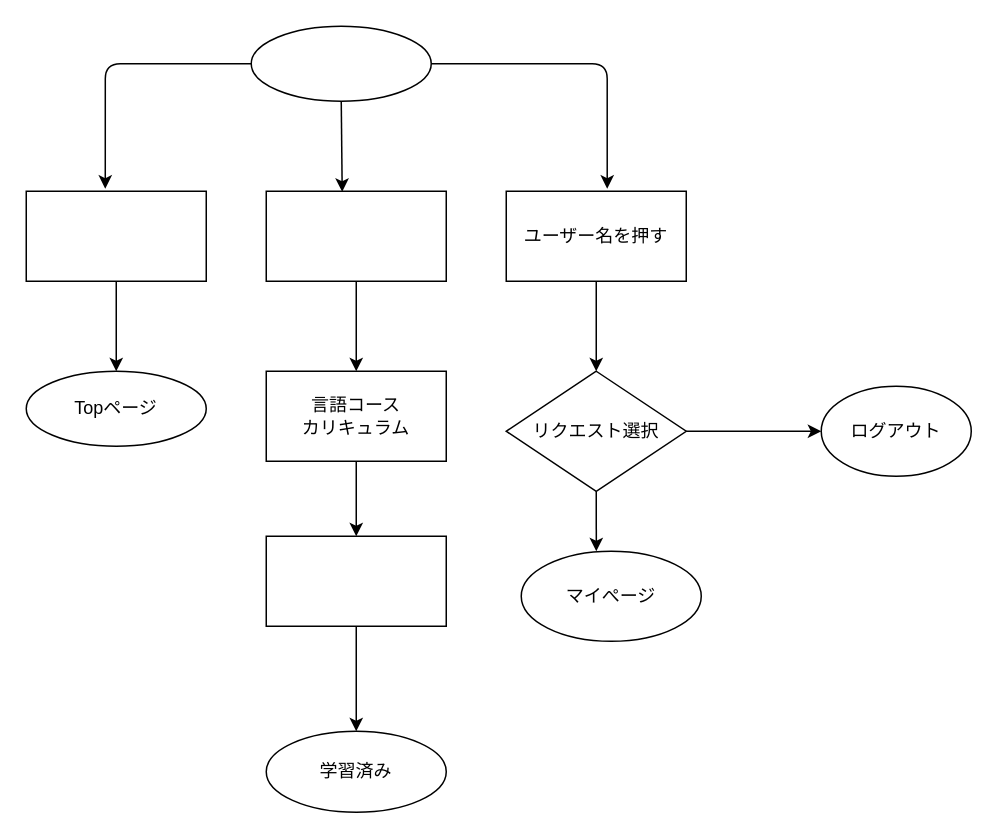
Some shapes in this 998 by 839 pixel diagram are drawn without their labels. The shapes that lost their labels are listed below. From the top down, each one's centre as x and y in pixels, then its label:
At point 340,63: "処理開始".
At point 115,235: "freeksボタンを押す".
At point 355,235: "学習する言語のボタンを押す".
At point 355,580: "未学習ボタンを押す".
